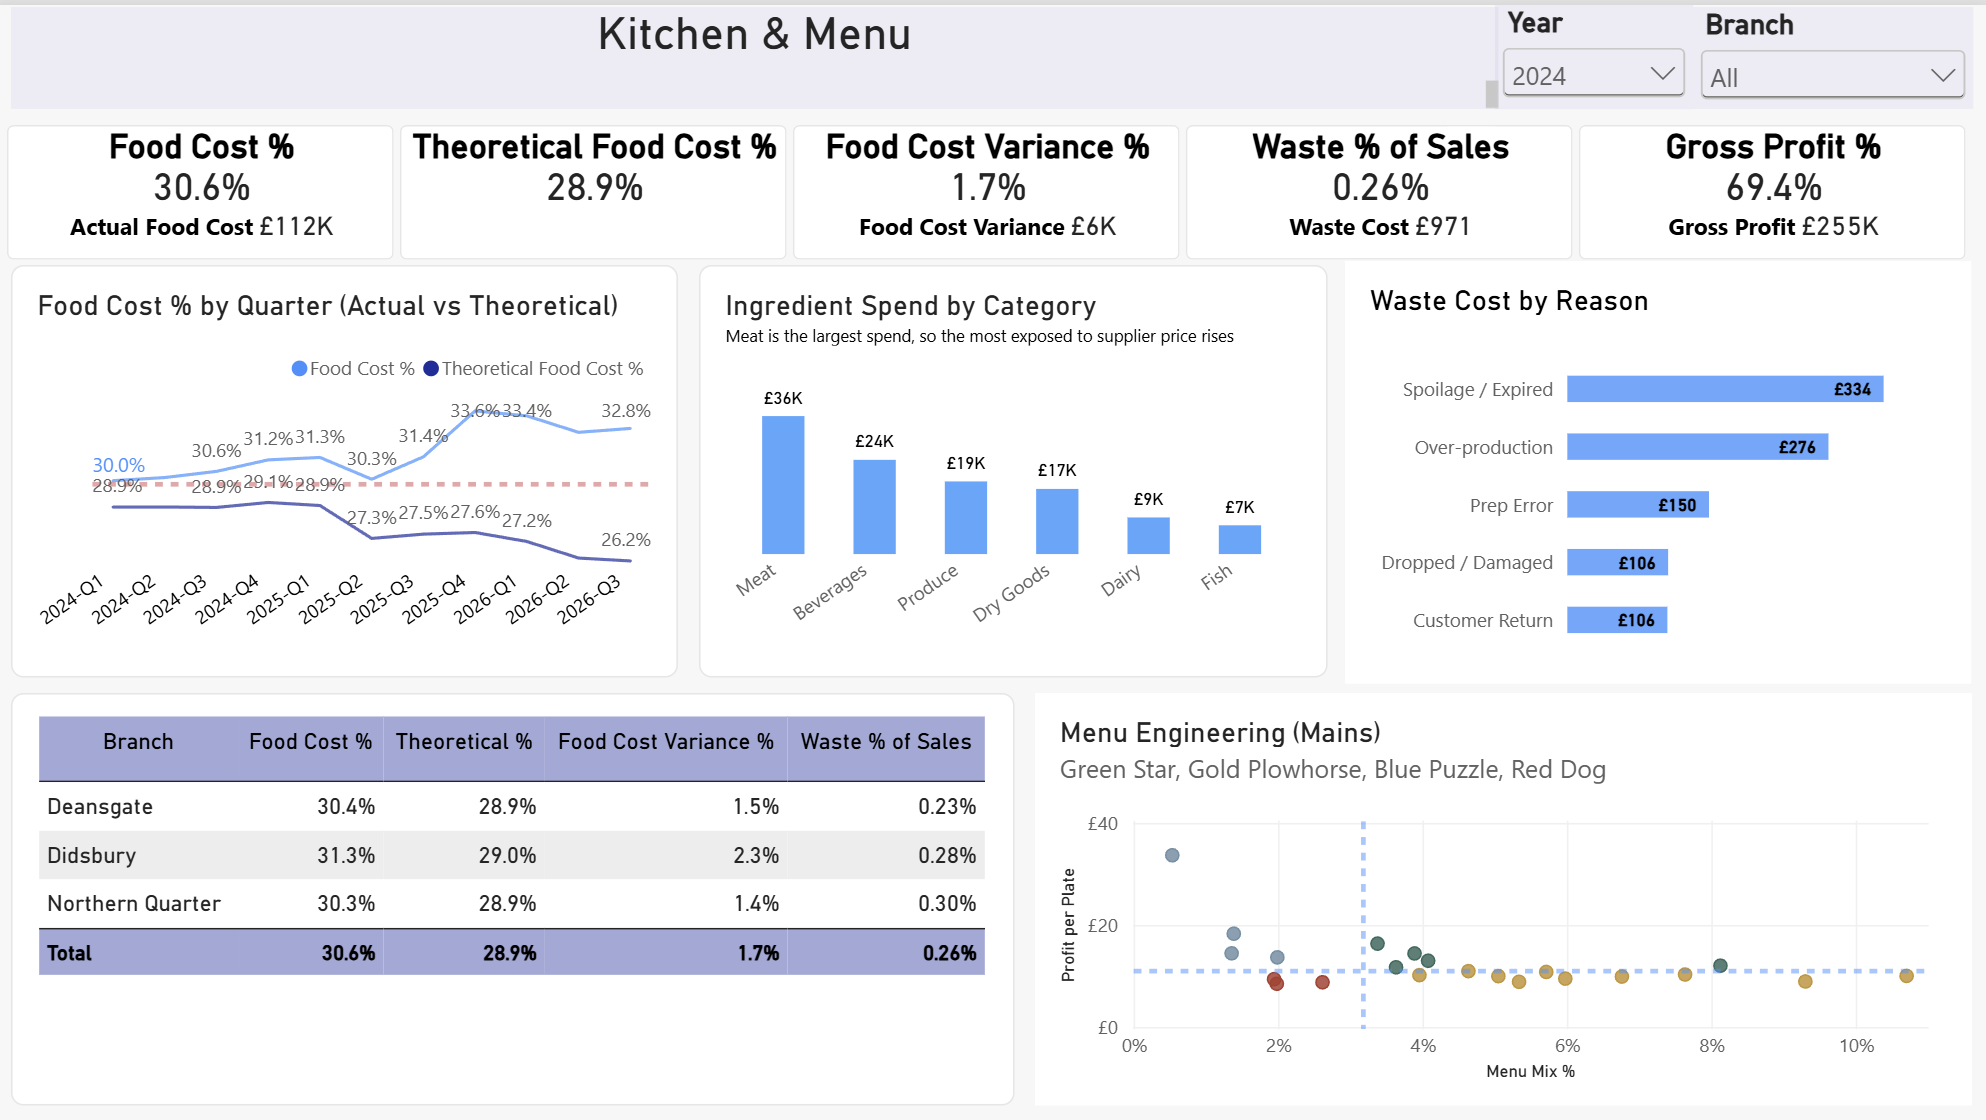

Layout of this report page (visuals, bound fields, positions):
{"tool":"powerbi","page":{"name":"Kitchen & Menu","canvas":[1280,720],"ordinal":3},"visuals":[{"type":"slicer","title":"Year Slicer","fields":{"Values":["dim_date.year"]},"box":[962.1,0,126.2,66.2],"z":0},{"type":"slicer","title":"Branch Slicer","fields":{"Values":["dim_branch.branch_name"]},"box":[1087.9,1.5,178.8,65.2],"z":1000},{"type":"scatterChart","title":"Menu Engineering (Mains)","fields":{"Category":["dim_menu_item.menu_item_name"],"X":["_Measures.Menu Mix %"],"Y":["_Measures.Profit per Plate"]},"box":[668.3,440,598.3,263.3],"z":2000},{"type":"cardVisual","fields":{"Data":["_Measures.Food Cost %","_Measures.Theoretical Food Cost %","_Measures.Food Cost Variance %","_Measures.Waste % of Sales","_Measures.Gross Profit %"]},"box":[12.1,77.3,1254.5,86.4],"z":5000},{"type":"textbox","title":"Kitchen & Menu","box":[13.6,1.5,950,65.2],"z":6000},{"type":"clusteredBarChart","title":"Waste Cost by Reason","fields":{"Category":["fact_wastage.waste_reason"],"Y":["_Measures.Waste Cost"]},"box":[866.7,163.3,400,270],"z":7000},{"type":"columnChart","title":"Ingredient Spend by Category","fields":{"Category":["dim_ingredient.ingredient_category"],"Y":["_Measures.Actual Food Cost"]},"box":[453,166.7,401.5,263.6],"z":8000},{"type":"lineChart","title":"Food Cost % by Quarter (Actual vs Theoretical)","fields":{"Category":["dim_date.year_quarter"],"Y":["_Measures.Food Cost %","_Measures.Theoretical Food Cost %"]},"box":[13.6,166.7,425.8,263.6],"z":8500},{"type":"tableEx","title":"Net Sales vs Last Year","fields":{"Values":["dim_branch.branch_name","_Measures.Food Cost %","_Measures.Theoretical Food Cost %","_Measures.Food Cost Variance %","_Measures.Waste % of Sales"]},"box":[13.6,439.4,640.9,263.6],"z":9000}]}

Visuals, with their boxes in screenshot pixels (x1, y1, x2, y2), scaled from the page's 1280x720 canvas onto the 1986x1120 screenshot:
"Year Slicer" slicer: (1493, 0, 1689, 103)
"Branch Slicer" slicer: (1688, 2, 1965, 104)
"Menu Engineering (Mains)" scatterChart: (1037, 684, 1965, 1094)
cardVisual - _Measures.Food Cost % x _Measures.Theoretical Food Cost %: (19, 120, 1965, 255)
"Kitchen & Menu" textbox: (21, 2, 1495, 104)
"Waste Cost by Reason" clusteredBarChart: (1345, 254, 1965, 674)
"Ingredient Spend by Category" columnChart: (703, 259, 1326, 669)
"Food Cost % by Quarter (Actual vs Theoretical)" lineChart: (21, 259, 682, 669)
"Net Sales vs Last Year" tableEx: (21, 684, 1015, 1094)
